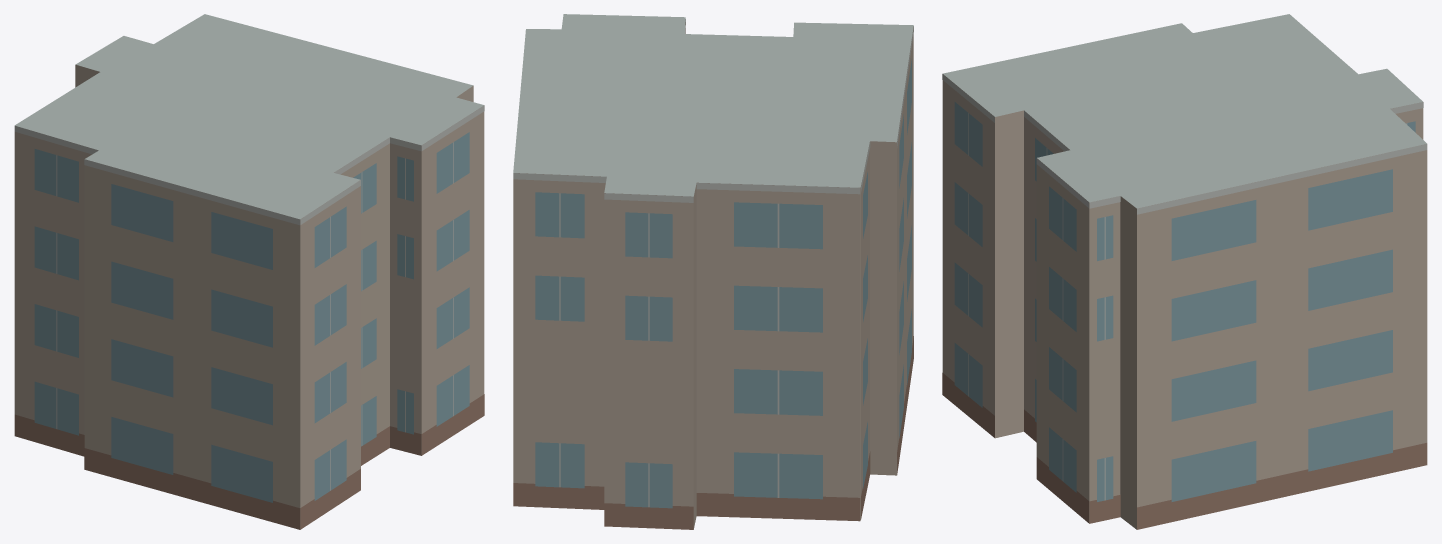
Rendered from survey-upis-32838312.glb.
3 renders of one model, left to right at view 1: azimuth 30°, elevation 25°; view 2: azimuth 150°, elevation 25°; view 3: azimuth 270°, elevation 25°, orthographic. The views are drawn at different scales.
Visible parts, largest first — view 1: survey-upis-32838312.tmp; view 2: survey-upis-32838312.tmp; view 3: survey-upis-32838312.tmp.
Part boxes in pixels (left/top/right/bottom): survey-upis-32838312.tmp: left=14, top=14, right=484, bottom=529; survey-upis-32838312.tmp: left=513, top=14, right=913, bottom=529; survey-upis-32838312.tmp: left=942, top=14, right=1427, bottom=529.
Size of the model in its own units: 16.37 by 12.6 by 17.24.
